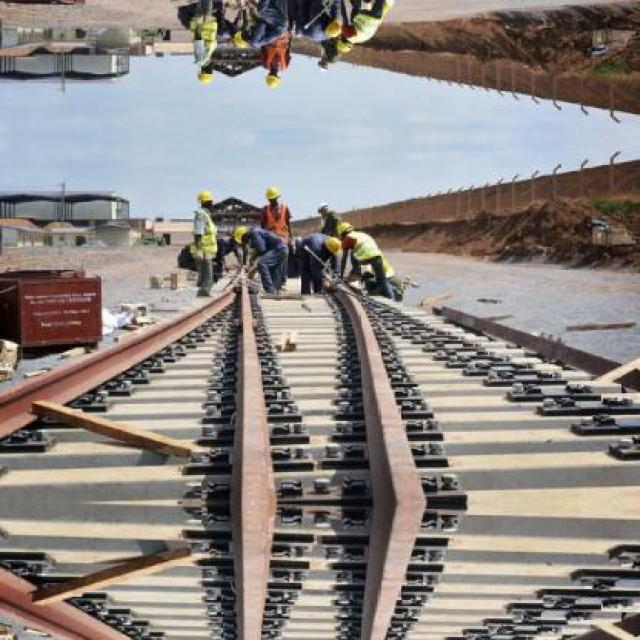helmet: (195, 187, 214, 210), (195, 64, 214, 87), (334, 219, 355, 239), (334, 34, 355, 54), (322, 233, 340, 256), (322, 18, 340, 41), (313, 195, 330, 217), (313, 57, 330, 79), (264, 69, 281, 88), (264, 186, 281, 204)
